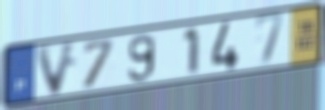1: (181, 26, 204, 76)
4: (210, 19, 241, 74)
7: (253, 10, 286, 71), (81, 36, 116, 91)
9: (125, 33, 157, 83)
V: (34, 39, 80, 99)
